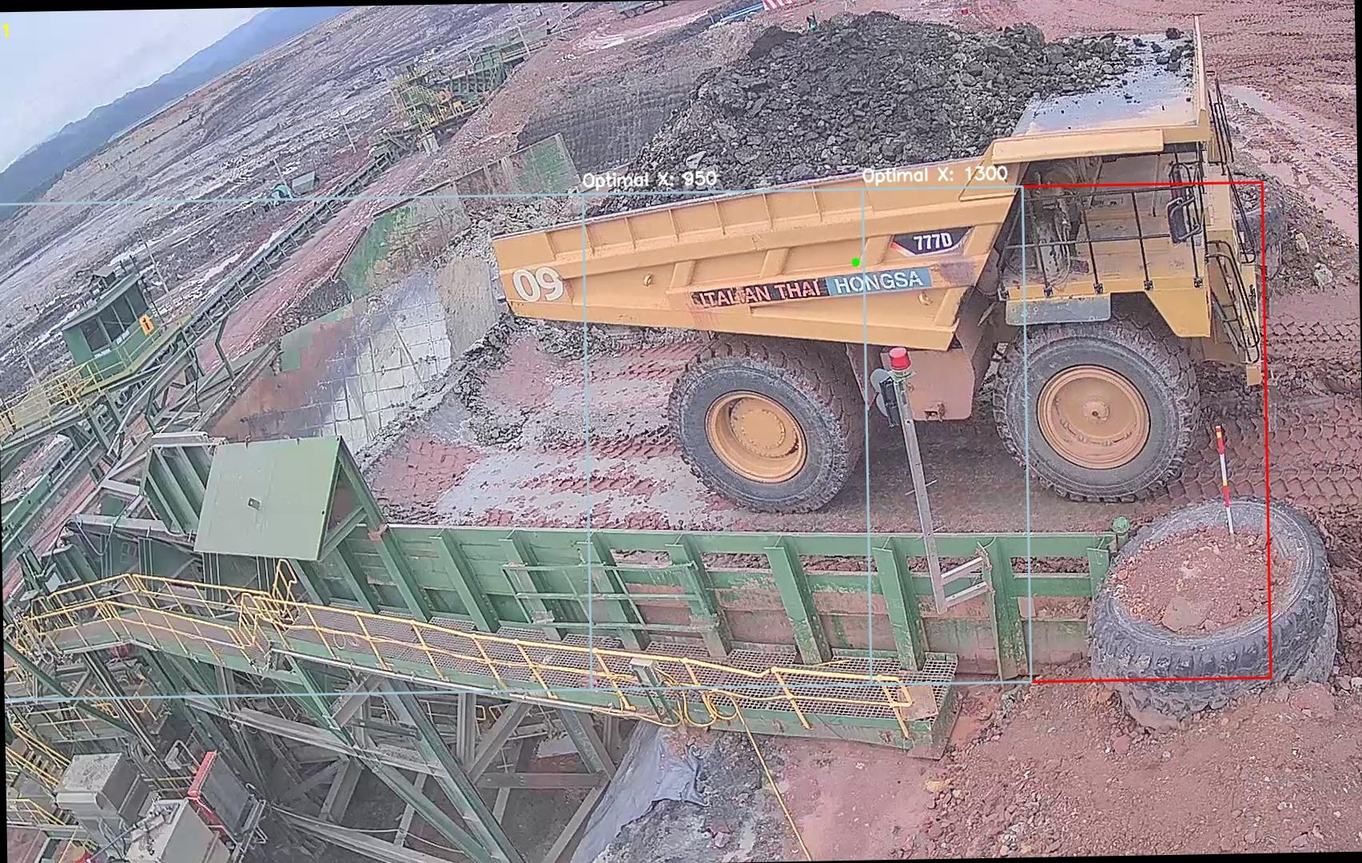company: (678, 260, 938, 308)
full_load: (656, 10, 1032, 189)
mining_truck: (480, 0, 1288, 511)
tail_number: (508, 261, 574, 306)
truck_size: (892, 219, 970, 259)
